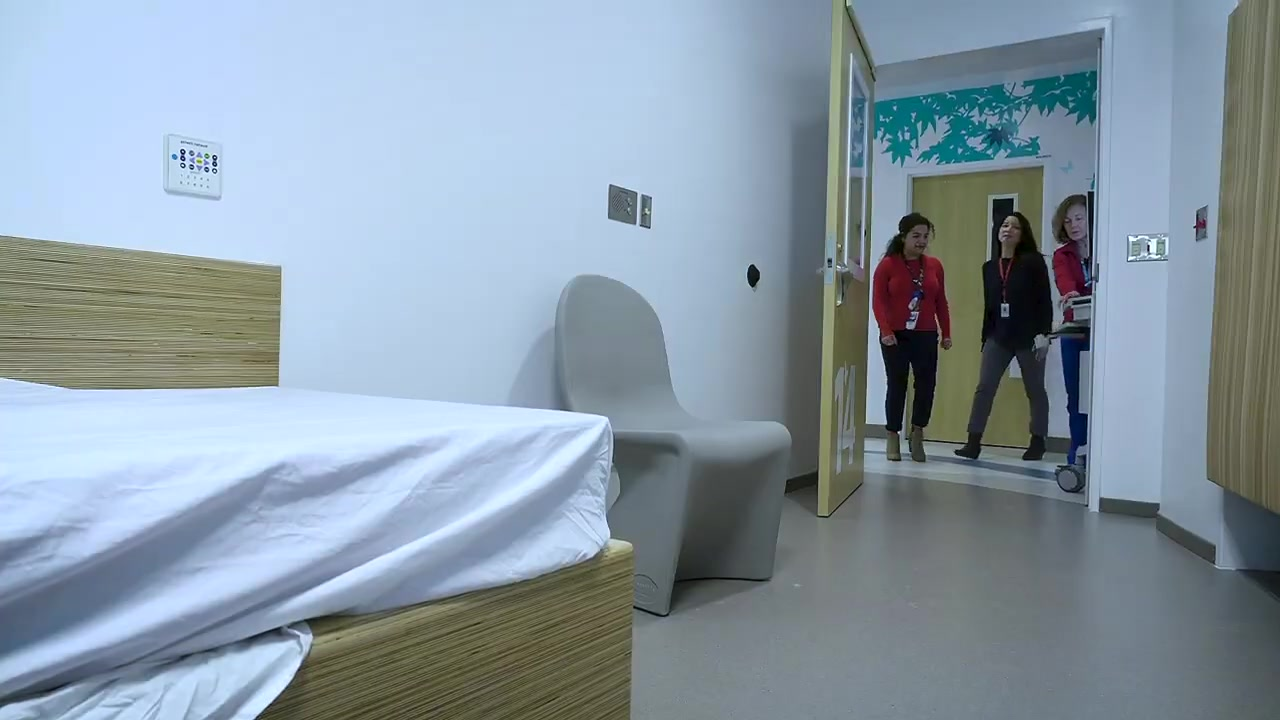chair: (554, 273, 792, 616)
door_handle: (834, 263, 855, 308)
hospital_bed: (1, 235, 634, 720)
light_switch: (641, 196, 651, 231)
staff: (954, 211, 1054, 461), (872, 212, 951, 463), (1052, 192, 1094, 467)
utility_cart: (1048, 296, 1092, 494)
